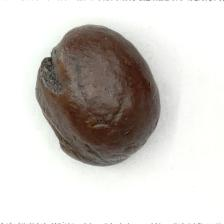NG: (35, 50, 66, 100)
